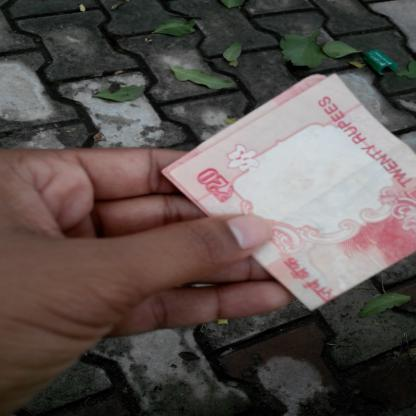Old20Back: (192, 77, 416, 307)
